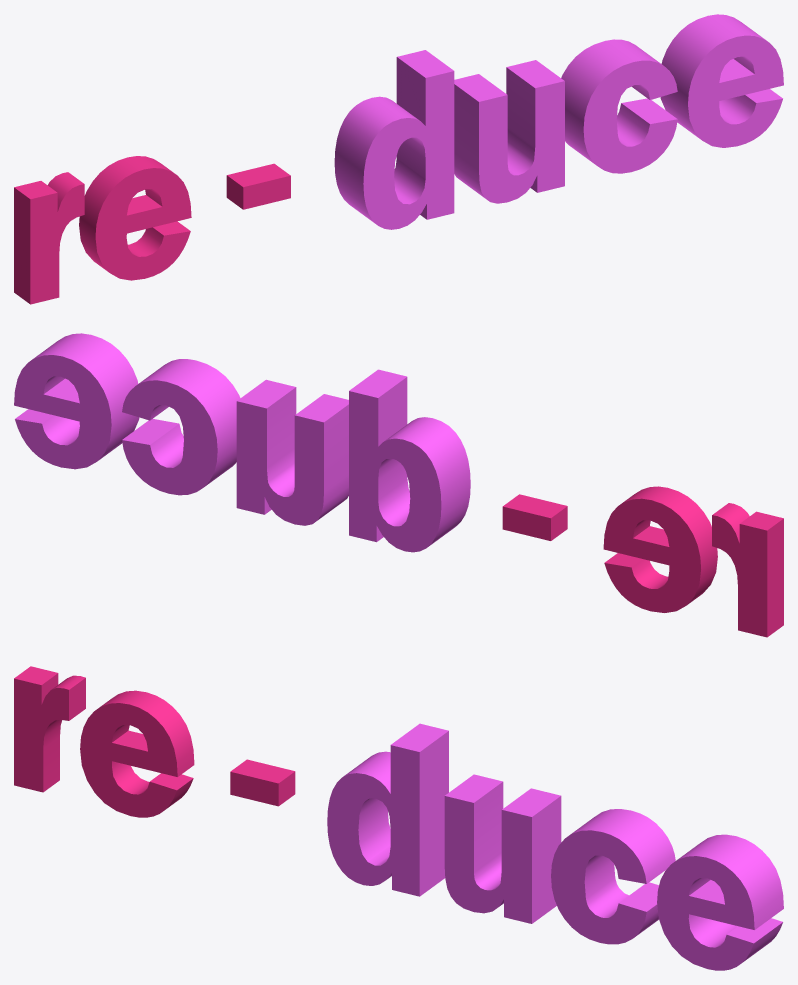
Rendered from Re- duce.fbx.
3 views of the same model, one above another, from view 1: azimuth 30°, elevation 25°; view 2: azimuth 150°, elevation 25°; view 3: azimuth 330°, elevation 25° (orthographic).
Parts seen in each view (by area): view 1: re__duce1; view 2: re__duce1; view 3: re__duce1.
Part boxes in pixels (x1,y1,x2,y2): re__duce1: (14,14,783,304); re__duce1: (14,333,783,637); re__duce1: (14,666,783,970).
Bounding box in the file's own units: 2596 × 483 × 175.
